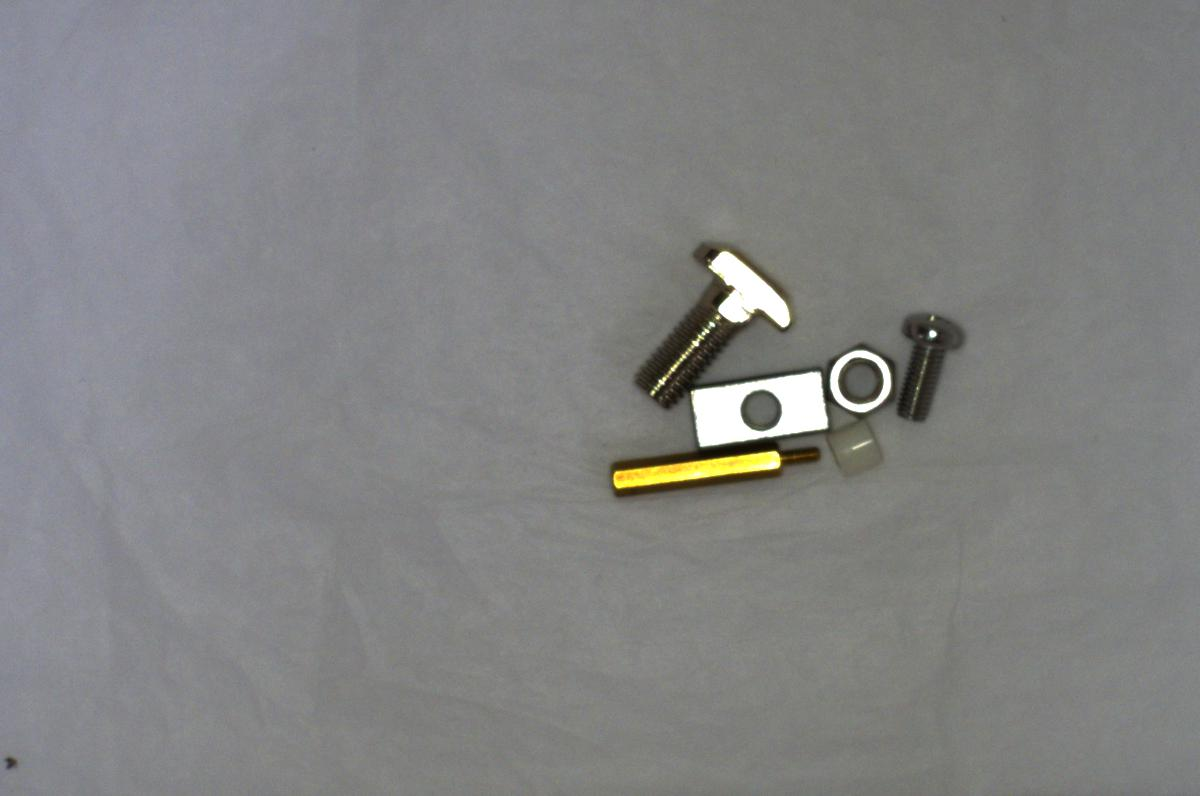Hexagon nut: (826, 335, 895, 420)
Hexagon pillar: (598, 440, 828, 495)
Plastic cushion pillar: (826, 416, 885, 487)
Rectangular nut: (686, 367, 830, 448)
Round head screw: (888, 308, 968, 420)
T-shaped screw: (637, 236, 792, 412)
